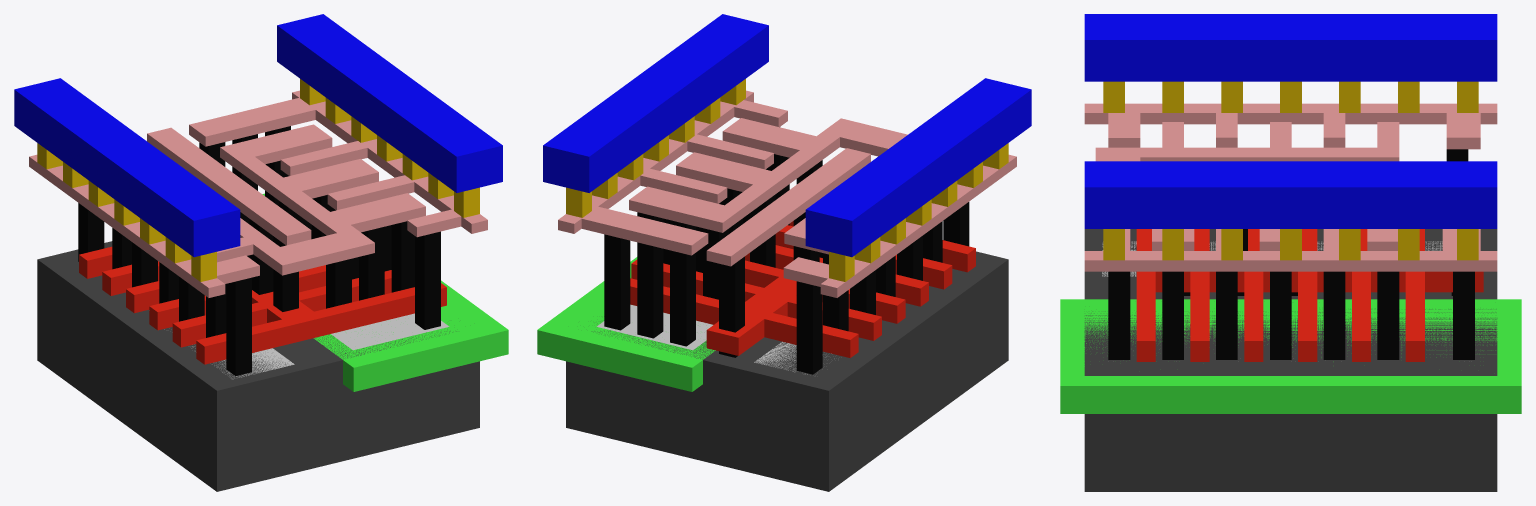
File: sky130_fd_sc_hd__inv_6.obj
3 views of the same model, side by side, from view 1: azimuth 30°, elevation 25°; view 2: azimuth 150°, elevation 25°; view 3: azimuth 270°, elevation 25° (orthographic). The views are drawn at different scales.
Parts seen in each view (by area): view 1: subs, metal1, li, licon, poly, nwell, mcon, tap, diff; view 2: subs, metal1, li, licon, poly, nwell, mcon, tap, diff; view 3: metal1, subs, nwell, li, poly, licon, mcon.
Boxes of the visible parts, x1,y1,x2,y2 form: subs: (37,241,479,491); metal1: (14,14,502,257); li: (29,90,487,297); licon: (78,126,440,375); poly: (79,246,446,364); nwell: (262,193,508,391); mcon: (37,79,479,281); tap: (331,313,449,350); diff: (164,329,294,379); subs: (566,251,1008,491); metal1: (543,14,1031,257); li: (558,90,1016,297); licon: (604,154,969,374); poly: (630,221,975,357); nwell: (537,257,715,391); mcon: (566,79,1008,281); tap: (596,304,712,350); diff: (754,341,834,374); metal1: (1084,14,1497,228); subs: (1084,229,1497,491); nwell: (1060,299,1521,413); li: (1084,103,1497,271); poly: (1136,229,1483,361); licon: (1108,149,1474,359); mcon: (1103,81,1478,260).
Size of the model in its own units: 3.2 by 2.74 by 3.6.
